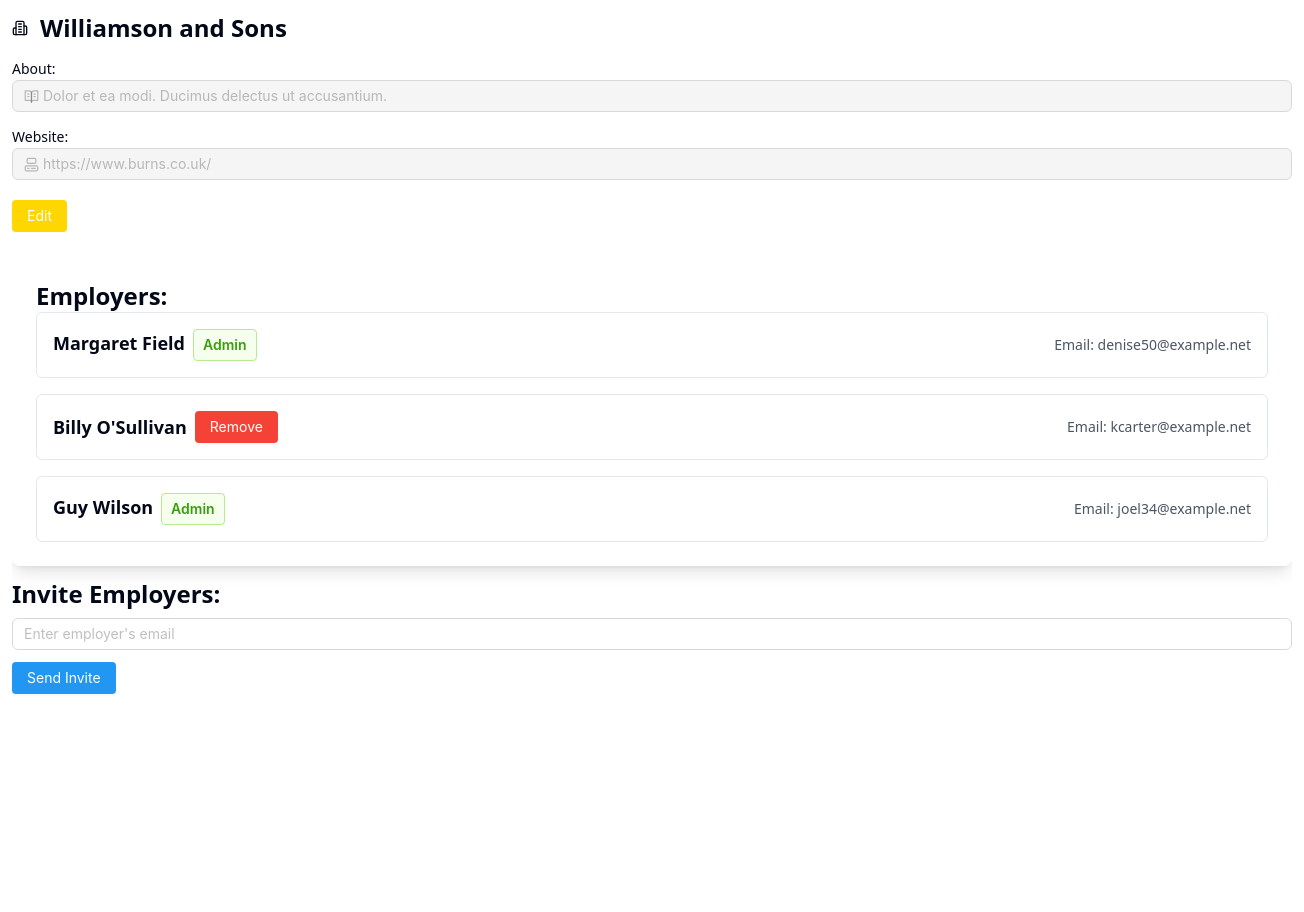
CompanyProfilePage component › Edit button toggles edit mode
This screenshot has width=1304, height=912.
Expected: the text "Edit" is shown, [27,209,52,223]
Click the button "Edit": (40, 216) [12,200,67,232]
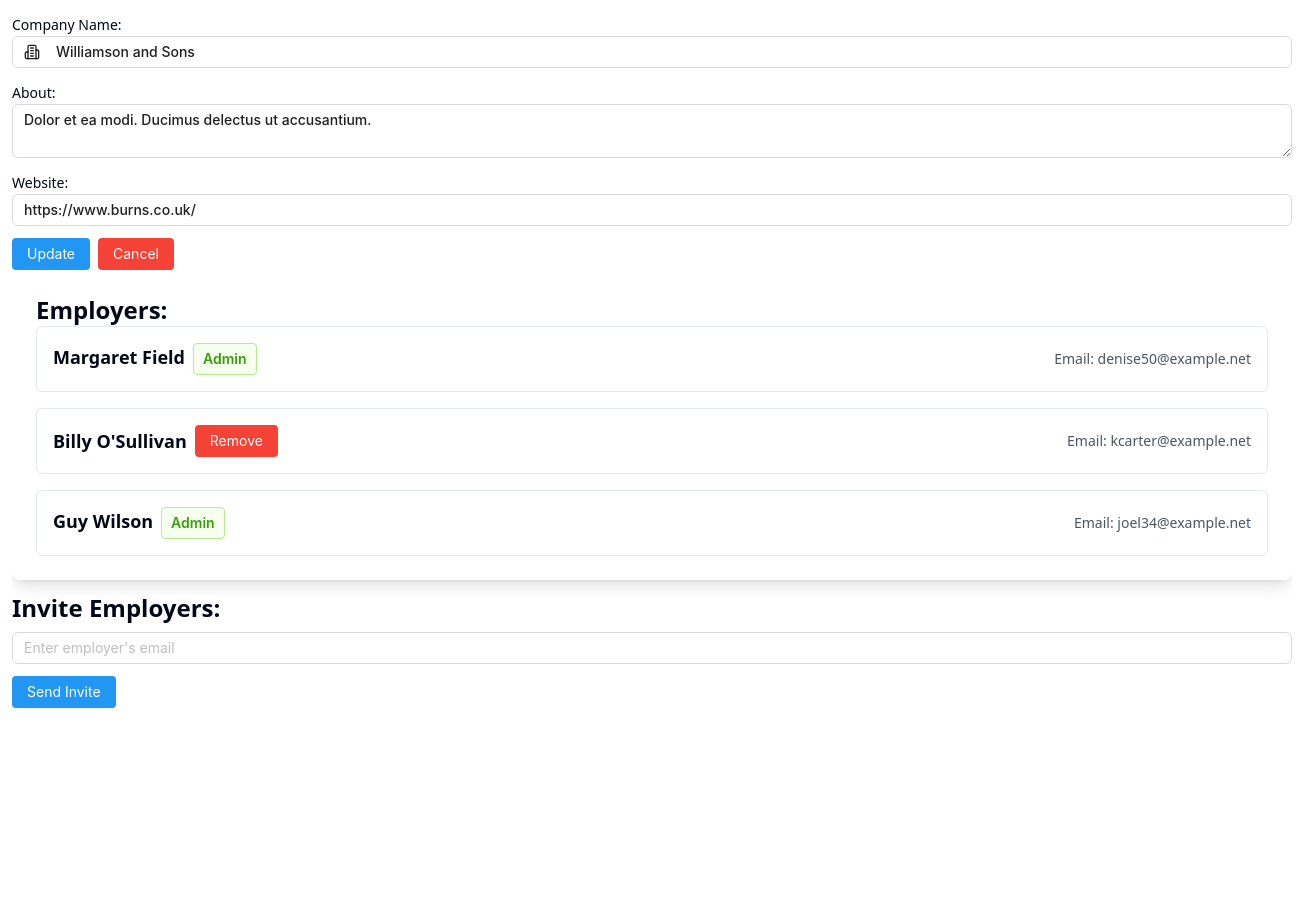
Now the text "Update" is shown, box [27,247,75,261]
Now the text "Cancel" is shown, box [113,247,159,261]
Now the field labelled "Company Name:" is shown, box [56,41,1280,63]
